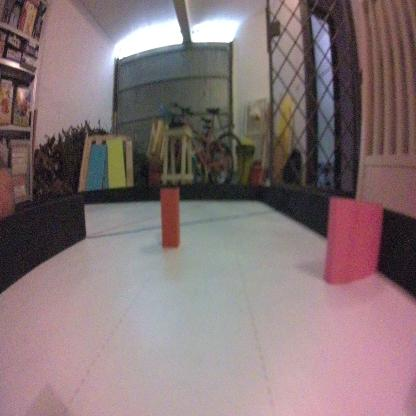magenta: (323, 193, 382, 290)
red: (159, 183, 182, 248)
